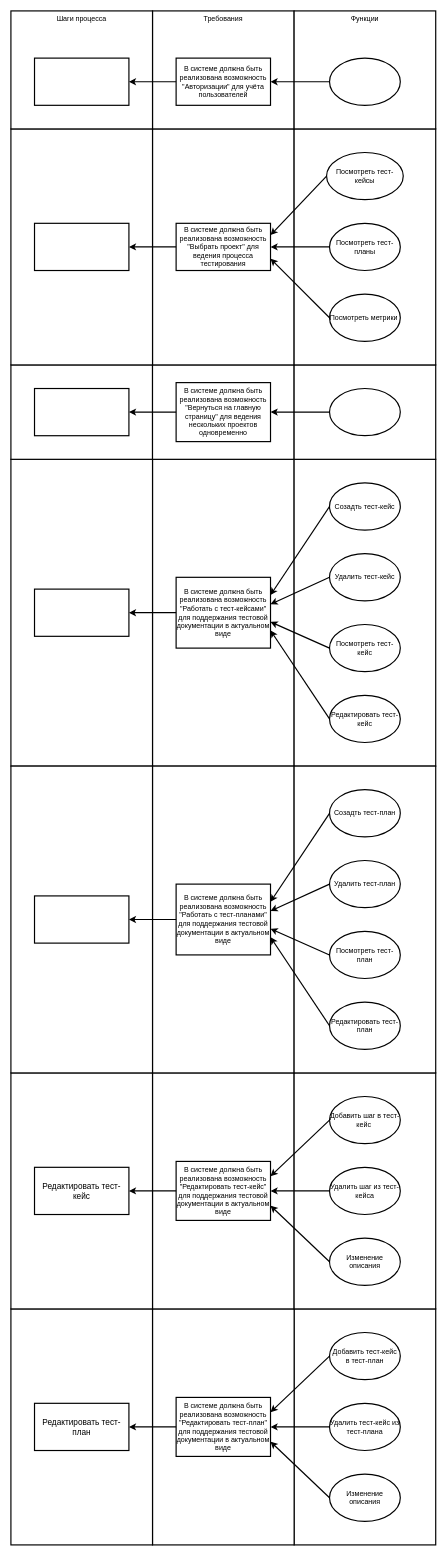
Image size: 446x1555. Some labels were removed from this diagram. The centre of each missing label's shape, as x and y in pixels:
"Авторизация" goes at pixel 81 81.
"Авторизация пользователя" goes at pixel 365 81.
"Вернуться на главную страницу" goes at pixel 81 412.
"Выбрать проект" goes at pixel 81 246.
"Посмотреть список проектов" goes at pixel 365 412.
"Работать с тест-кейсами" goes at pixel 81 612.
"Работать с тест-планами" goes at pixel 81 919.
